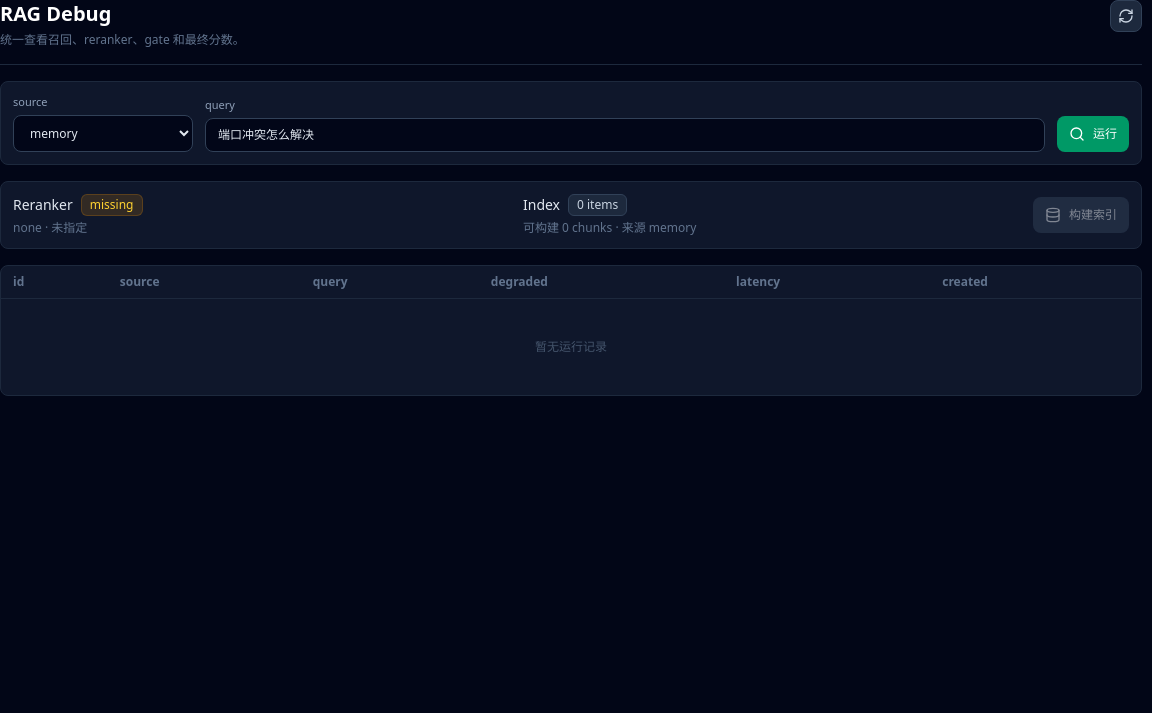
Test: RAG Debug 页面 › all 展示每个真实来源的结果状态
This screenshot has width=1152, height=713.
Expected: the heading "RAG Debug" is shown, top-left (0, 0), bottom-right (111, 27)
Select "all" in the dropdown labelled "source": [103, 133] box top-left (13, 114), bottom-right (193, 152)
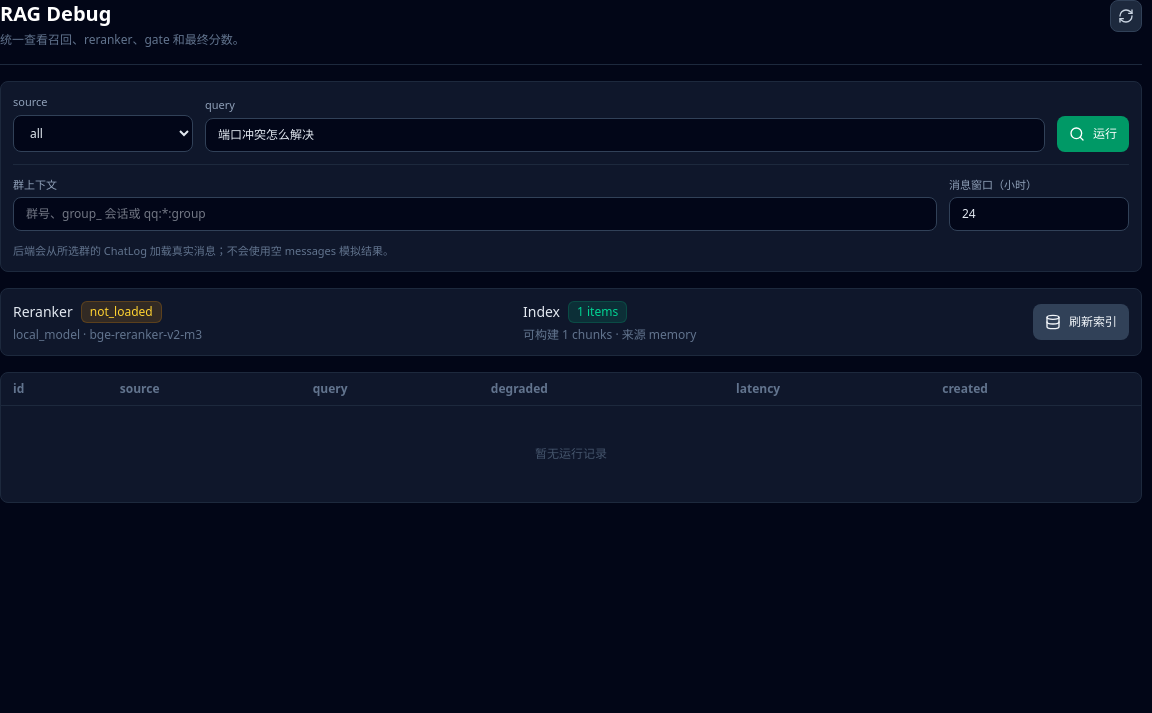
In the field labelled "群上下文": [475, 214] box top-left (13, 197), bottom-right (937, 231), type "4242"
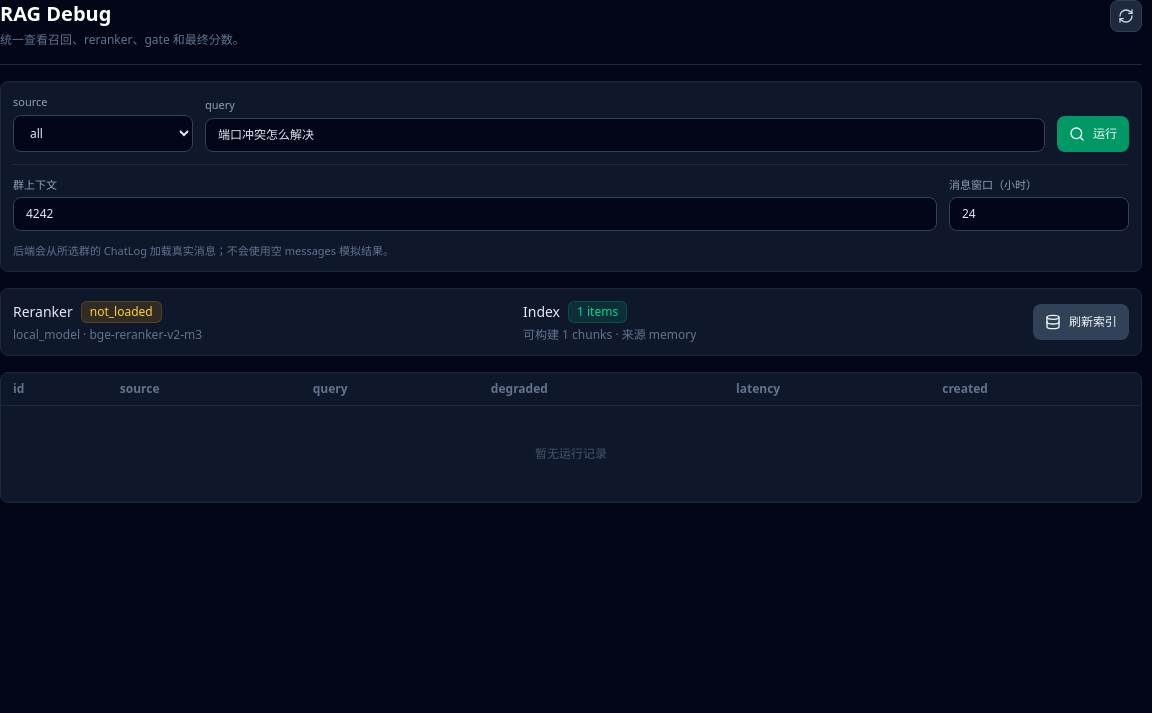
Click the button "运行": [1093, 134] box top-left (1057, 116), bottom-right (1129, 152)
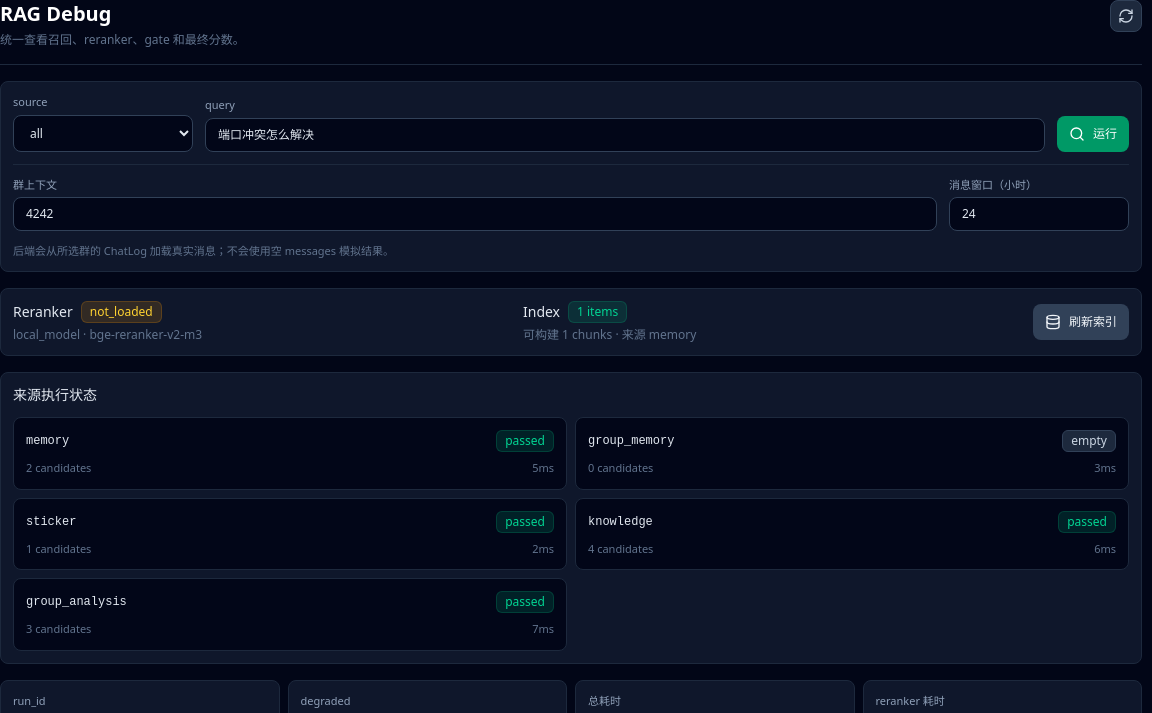
Result: the heading "来源执行状态" is shown at top-left (13, 385), bottom-right (97, 404)
Result: the text "empty" is shown at top-left (1062, 430), bottom-right (1116, 452)
